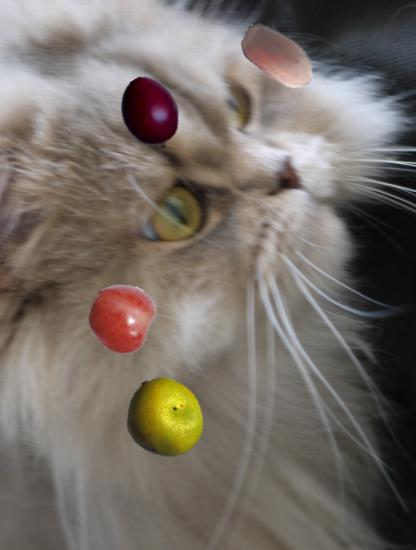Cherry: (87, 283, 157, 353)
Hazelnut: (238, 17, 321, 100)
Pomelo: (123, 377, 206, 460)
Tamarillo: (113, 76, 189, 152)
